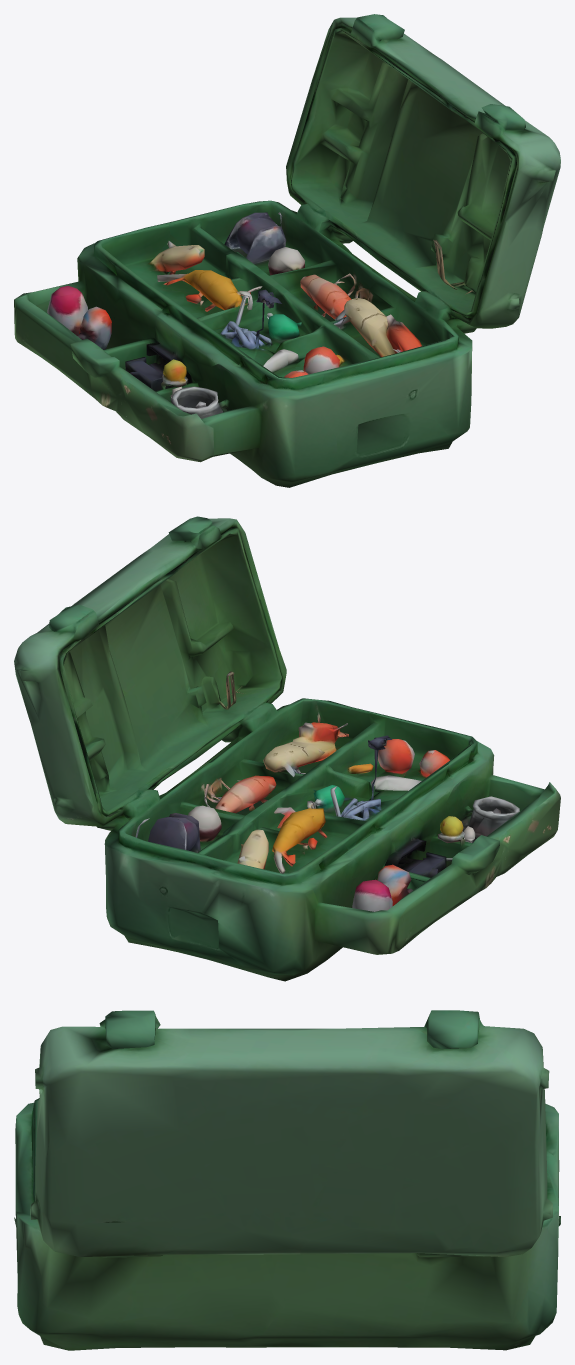
File: prop-tacklebox.glb
The picture shows the model from 3 angles, top to bottom: view 1: azimuth 30°, elevation 25°; view 2: azimuth 150°, elevation 25°; view 3: azimuth 270°, elevation 25°; orthographic projection. The views are drawn at different scales.
Parts seen in each view (by area): view 1: tripo_node_95c20008-c1c7-445e-8a30-744eedd75230; view 2: tripo_node_95c20008-c1c7-445e-8a30-744eedd75230; view 3: tripo_node_95c20008-c1c7-445e-8a30-744eedd75230.
Boxes of the visible parts, bbox=[...] form: tripo_node_95c20008-c1c7-445e-8a30-744eedd75230: bbox=[14, 14, 560, 487]; tripo_node_95c20008-c1c7-445e-8a30-744eedd75230: bbox=[14, 516, 560, 981]; tripo_node_95c20008-c1c7-445e-8a30-744eedd75230: bbox=[14, 1010, 560, 1350].
Bounding box in the file's own units: 0.9996 × 0.7221 × 0.9314.
Materials: 1 (1 with a texture image).
